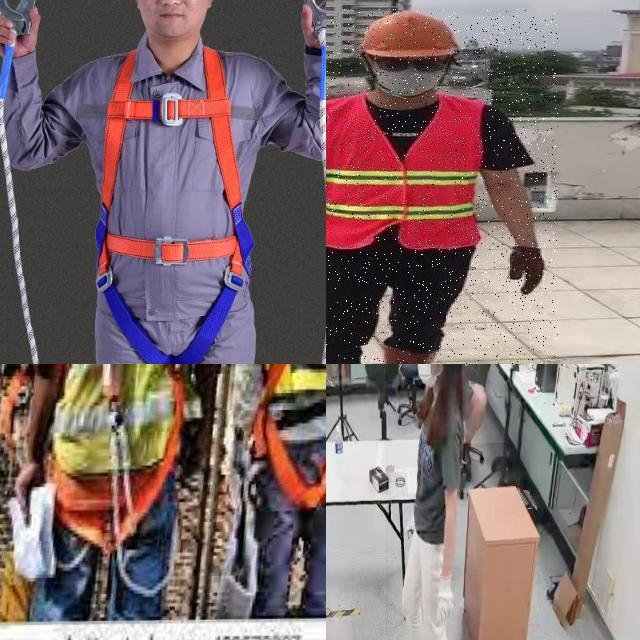Harness: (92, 47, 255, 364), (48, 364, 186, 499), (270, 364, 326, 503)
boots: (380, 341, 442, 364)
face_mask: (412, 364, 439, 389)
hand_glove: (430, 566, 462, 630)
head_helmet: (352, 10, 462, 59)
person: (326, 9, 558, 364), (385, 364, 466, 640), (462, 364, 505, 444)
vest: (326, 97, 480, 248)
